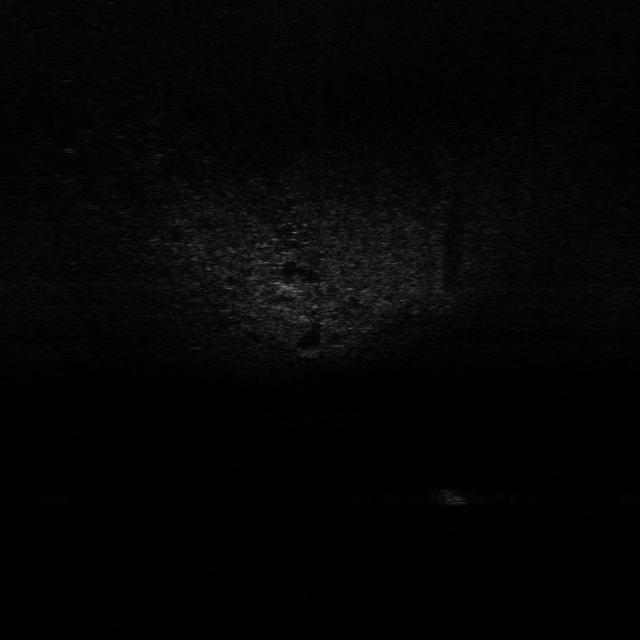cylinder: (434, 486, 474, 506)
